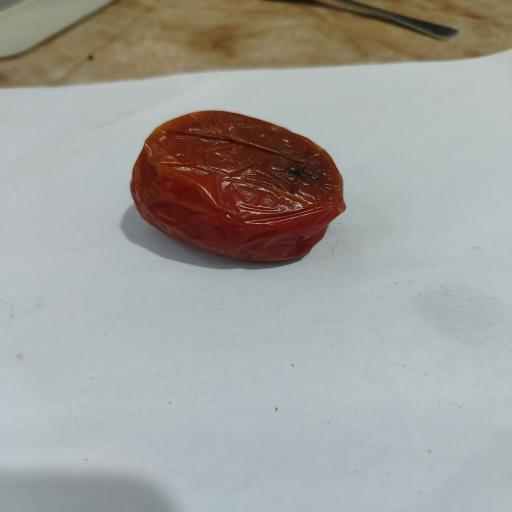spoiled: (131, 111, 345, 261)
